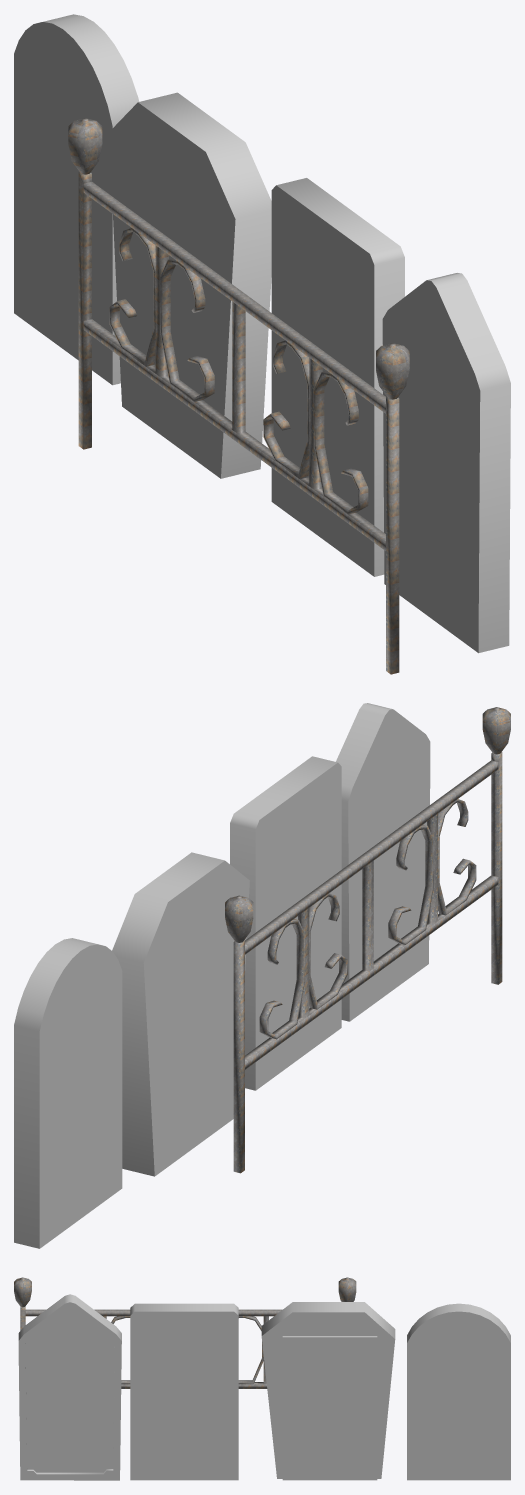
File: Tombstones_simple.dae
3 views of the same model, one above another, from view 1: azimuth 30°, elevation 25°; view 2: azimuth 150°, elevation 25°; view 3: azimuth 270°, elevation 25° (orthographic). The views are drawn at different scales.
Parts seen in each view (by area): view 1: Tombstone_3, Tombstone_1, Fence, Tombstone_2, Tombstone_4; view 2: Tombstone_3, Tombstone_4, Fence, Tombstone_2, Tombstone_1; view 3: Tombstone_3, Tombstone_2, Tombstone_4, Tombstone_1, Fence.
Part boxes in pixels (x1,y1,x2,y2): Tombstone_3: (109,92,271,478); Tombstone_1: (382,273,510,653); Fence: (68,118,409,674); Tombstone_2: (271,178,404,576); Tombstone_4: (14,14,139,385); Tombstone_3: (112,852,249,1176); Tombstone_4: (14,938,122,1248); Fence: (225,707,510,1173); Tombstone_2: (230,756,341,1090); Tombstone_1: (336,703,430,1021); Tombstone_3: (261,1302,395,1480); Tombstone_2: (130,1303,238,1480); Tombstone_4: (407,1303,510,1480); Tombstone_1: (18,1294,121,1480); Fence: (14,1277,356,1388).
Bounding box in the file's own units: 33.64 × 209 × 82.68.
